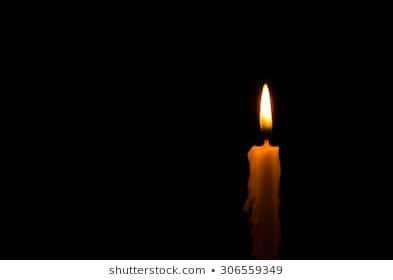fire: (257, 80, 275, 135)
